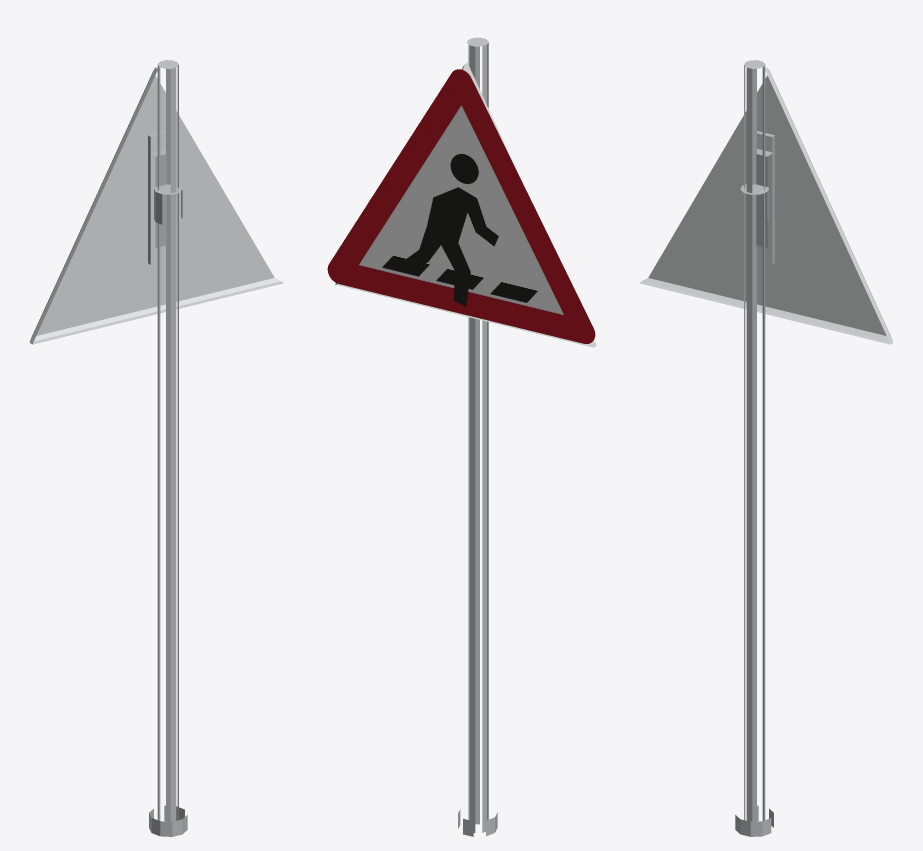
File: sign_pedestrian.glb
3 views of the same model, side by side, from view 1: azimuth 30°, elevation 25°; view 2: azimuth 150°, elevation 25°; view 3: azimuth 330°, elevation 25° (orthographic). The views are drawn at different scales.
Visible parts, largest first — view 1: sign_pedestrian; view 2: sign_pedestrian; view 3: sign_pedestrian.
Boxes of the visible parts, left/top/right/bottom form: sign_pedestrian: left=29, top=60, right=283, bottom=836; sign_pedestrian: left=327, top=37, right=596, bottom=836; sign_pedestrian: left=639, top=60, right=893, bottom=836.
Size of the model in its own units: 0.95 by 2.53 by 0.1488.
Materials: 5 (1 with a texture image).
